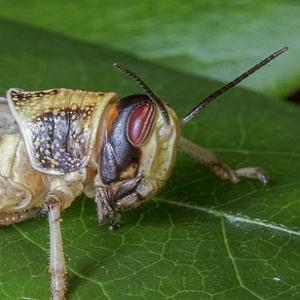locust: (1, 53, 265, 245)
